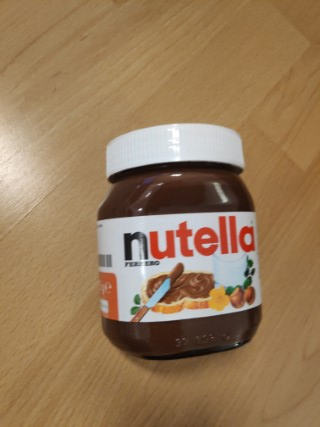nutella: (94, 122, 266, 361)
